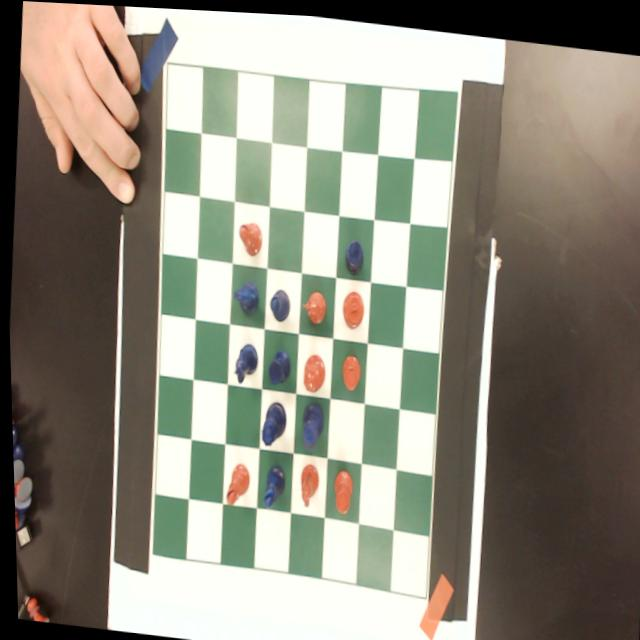B: (257, 458, 283, 508), (265, 281, 291, 321)
K: (294, 393, 325, 448)
N: (227, 336, 257, 386), (228, 275, 259, 314)
Q: (255, 392, 287, 447)
R: (263, 339, 291, 384), (340, 232, 363, 272)
b: (219, 456, 248, 507), (233, 214, 262, 258)
k: (336, 282, 363, 327)
n: (293, 456, 318, 508), (296, 285, 325, 322)
q: (297, 346, 324, 390)
r: (327, 464, 350, 512), (336, 350, 359, 386)
